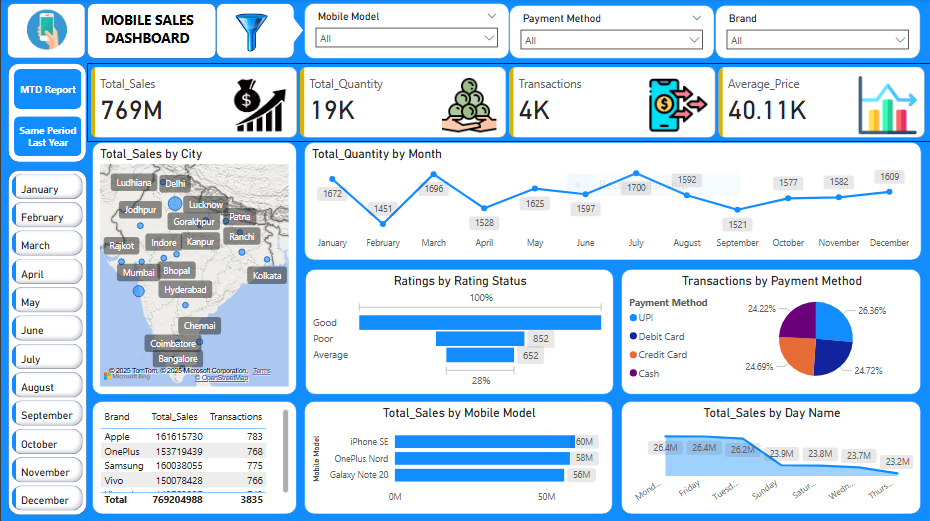

What the dashboard file says about the page in this screenshot:
{"tool":"powerbi","page":{"name":"Dashboard","canvas":[1280,720],"ordinal":0},"visuals":[{"type":"shape","box":[8.7,5.8,108.4,76.6],"z":0},{"type":"image","box":[10.1,5.8,107,73.7],"z":1000},{"type":"shape","box":[10.1,88.2,108.4,137.3],"z":2000},{"type":"shape","box":[9.6,235.4,108.7,474.8],"z":3000},{"type":"advancedSlicerVisual","fields":{"Values":["Custom_Calender.Date.Variation.Date Hierarchy.Month"]},"box":[9.6,235.4,108.7,474.8],"z":4000},{"type":"cardVisual","fields":{"Data":["Mobile_sales.Total_Sales","Mobile_sales.Total_Quantity","Mobile_sales.Transactions","Mobile_sales.Average_Price"]},"box":[118.6,88.2,1161,108.4],"z":5000},{"type":"slicer","fields":{"Values":["Mobile_sales.Mobile Model"]},"box":[416.4,5.8,283.4,76.6],"z":6000},{"type":"slicer","fields":{"Values":["Mobile_sales.Payment Method"]},"box":[699.8,8.7,283.4,73.7],"z":7000},{"type":"slicer","fields":{"Values":["Mobile_sales.Brand"]},"box":[983.1,8.7,283.4,73.7],"z":8000},{"type":"shape","box":[296.4,5.8,108.4,76.6],"z":9000},{"type":"image","box":[296.4,14.5,98.3,62.2],"z":10000},{"type":"shape","box":[373,14.5,43.4,56.4],"z":11000},{"type":"shape","box":[118.6,5.8,177.8,76.6],"z":12000},{"type":"textbox","box":[125.8,11.6,151.8,63.6],"z":13000},{"type":"map","fields":{"Category":["Mobile_sales.City"],"Size":["Mobile_sales.Total_Sales"]},"box":[125.8,196.6,281.9,348.4],"z":14000},{"type":"lineChart","fields":{"Category":["Custom_Calender.Date.Variation.Date Hierarchy.Month"],"Y":["Mobile_sales.Total_Quantity"]},"box":[416.4,196.6,850.1,163.4],"z":15000},{"type":"funnel","title":" Ratings by Rating Status","fields":{"Y":["CountNonNull(Mobile_sales.Customer Ratings)"],"Category":["Mobile_sales.Rating Status"]},"box":[417.8,371.6,425.1,173.5],"z":16000},{"type":"pieChart","fields":{"Y":["Mobile_sales.Transactions"],"Category":["Mobile_sales.Payment Method"]},"box":[853,371.6,413.5,173.5],"z":17000},{"type":"clusteredBarChart","fields":{"Y":["Mobile_sales.Total_Sales"],"Category":["Mobile_sales.Mobile Model"]},"box":[416.4,553.7,425.1,156.1],"z":18000},{"type":"areaChart","fields":{"Category":["Custom_Calender.Day Name"],"Y":["Mobile_sales.Total_Sales"]},"box":[853,553.7,413.5,156.1],"z":19000},{"type":"tableEx","fields":{"Values":["Mobile_sales.Brand","Mobile_sales.Total_Sales","Mobile_sales.Transactions"]},"box":[125.8,553.7,281.9,156.1],"z":20000},{"type":"pageNavigator","box":[17.3,96.9,94,120],"z":20001}]}

Visuals, with their boxes in screenshot pixels (x1, y1, x2, y2), scaled from the page's 1280x720 canvas onto the 930x521 screenshot:
shape: (left=6, top=4, right=85, bottom=60)
image: (left=7, top=4, right=85, bottom=58)
shape: (left=7, top=64, right=86, bottom=163)
shape: (left=7, top=170, right=86, bottom=514)
advancedSlicerVisual - Custom_Calender.Date.Variation.Date Hierarchy.Month: (left=7, top=170, right=86, bottom=514)
cardVisual - Mobile_sales.Total_Sales x Mobile_sales.Total_Quantity: (left=86, top=64, right=929, bottom=142)
slicer - Mobile_sales.Mobile Model: (left=303, top=4, right=508, bottom=60)
slicer - Mobile_sales.Payment Method: (left=508, top=6, right=714, bottom=60)
slicer - Mobile_sales.Brand: (left=714, top=6, right=920, bottom=60)
shape: (left=215, top=4, right=294, bottom=60)
image: (left=215, top=10, right=287, bottom=56)
shape: (left=271, top=10, right=303, bottom=51)
shape: (left=86, top=4, right=215, bottom=60)
textbox: (left=91, top=8, right=202, bottom=54)
map - Mobile_sales.City x Mobile_sales.Total_Sales: (left=91, top=142, right=296, bottom=394)
lineChart - Custom_Calender.Date.Variation.Date Hierarchy.Month x Mobile_sales.Total_Quantity: (left=303, top=142, right=920, bottom=260)
" Ratings by Rating Status" funnel: (left=304, top=269, right=612, bottom=394)
pieChart - Mobile_sales.Transactions x Mobile_sales.Payment Method: (left=620, top=269, right=920, bottom=394)
clusteredBarChart - Mobile_sales.Total_Sales x Mobile_sales.Mobile Model: (left=303, top=401, right=611, bottom=514)
areaChart - Custom_Calender.Day Name x Mobile_sales.Total_Sales: (left=620, top=401, right=920, bottom=514)
tableEx - Mobile_sales.Brand x Mobile_sales.Total_Sales: (left=91, top=401, right=296, bottom=514)
pageNavigator: (left=13, top=70, right=81, bottom=157)
